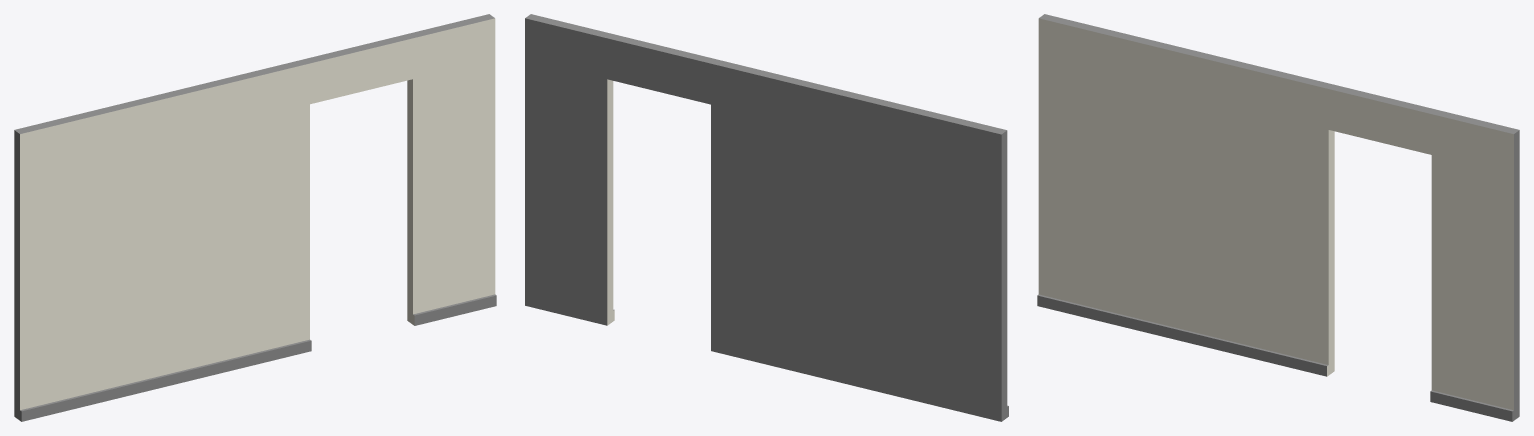
Rendered from Wall 2.FBX.
3 views of the same model, side by side, from view 1: azimuth 30°, elevation 25°; view 2: azimuth 150°, elevation 25°; view 3: azimuth 330°, elevation 25° (orthographic).
Visible parts, largest first — view 1: Wall 2; view 2: Wall 2; view 3: Wall 2.
Part boxes in pixels (left/top/right/bottom): Wall 2: left=14, top=14, right=496, bottom=421; Wall 2: left=525, top=14, right=1008, bottom=421; Wall 2: left=1037, top=14, right=1519, bottom=421.
Size of the model in its own units: 418 by 241 by 11.22.
2 materials, 1 textured.
